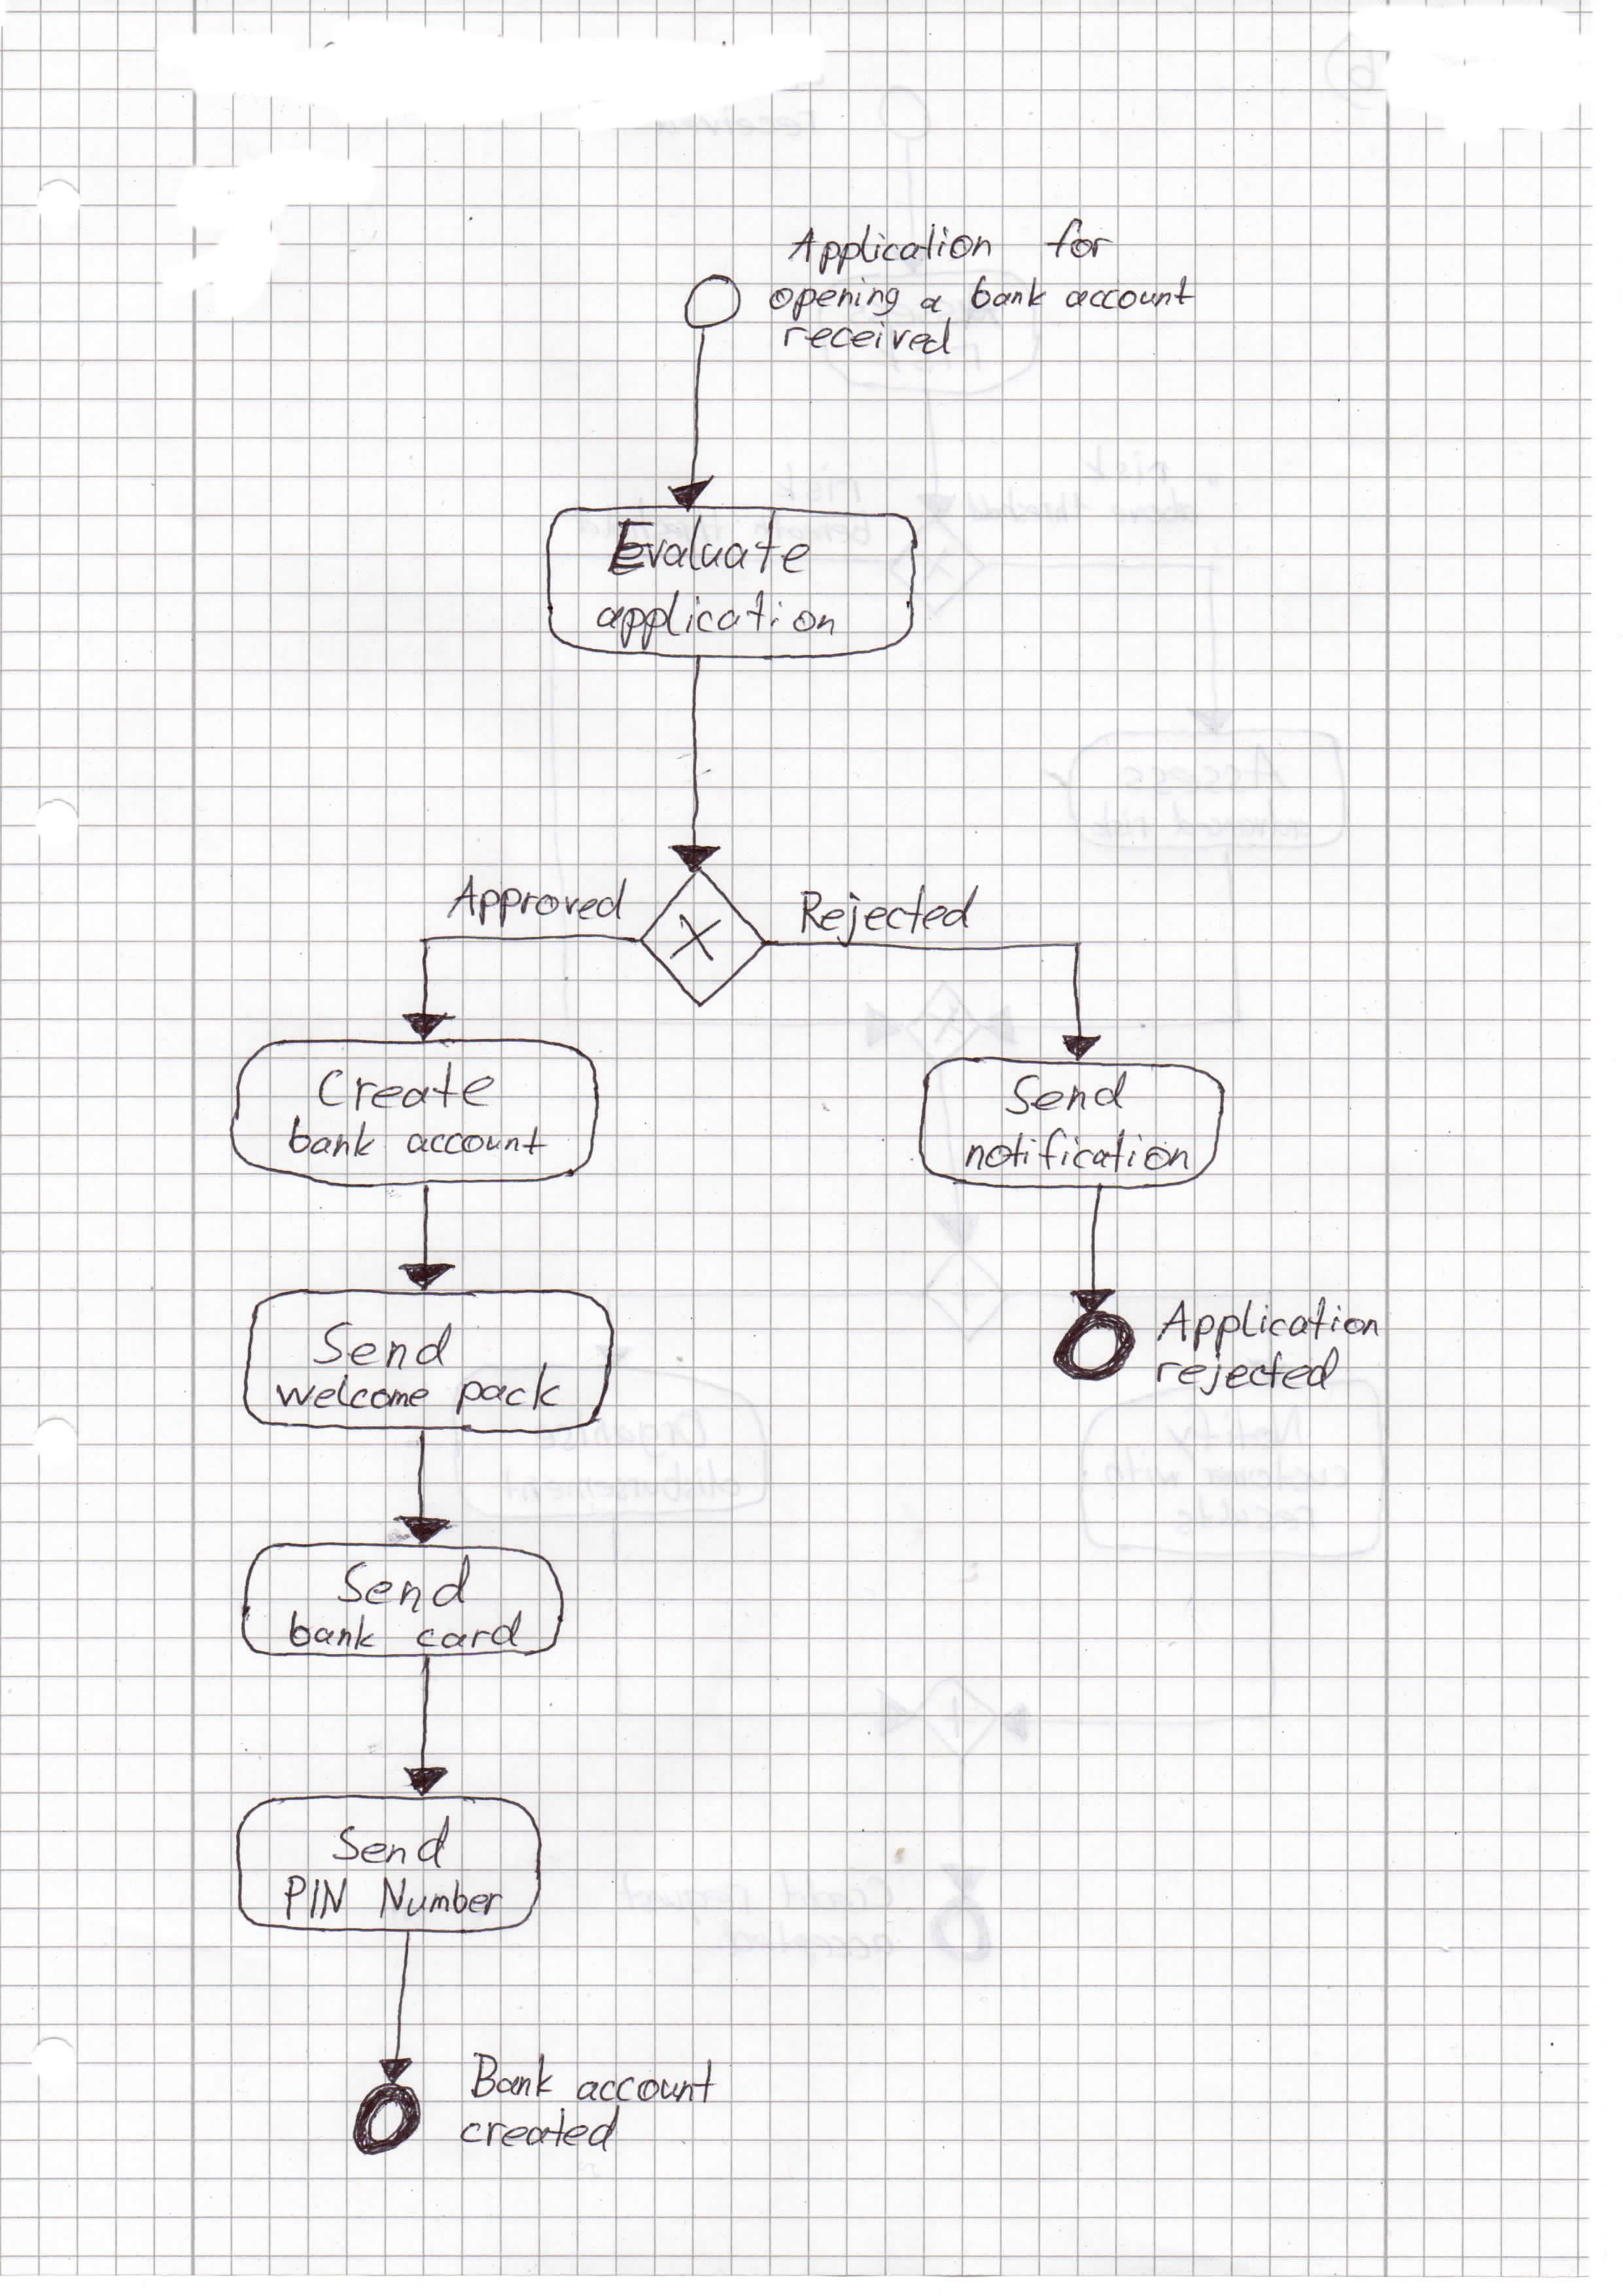Application: (1158, 1295, 1379, 1353), (789, 225, 994, 272)
Approved: (443, 873, 636, 929)
Bank: (472, 2054, 555, 2101)
Create: (316, 1061, 497, 1114)
Evaluate: (606, 511, 812, 581)
Number: (381, 1878, 502, 1918)
PIN: (283, 1873, 350, 1922)
Rejected: (794, 885, 977, 942)
Send: (335, 1556, 472, 1614), (313, 1319, 457, 1372), (1005, 1070, 1131, 1121), (334, 1818, 451, 1869)
a: (919, 290, 947, 320)
account: (574, 2059, 717, 2103), (402, 1121, 546, 1163), (1064, 278, 1194, 316)
application: (597, 592, 841, 650)
bank: (286, 1116, 379, 1161), (290, 1609, 378, 1655), (968, 274, 1049, 316)
card: (415, 1611, 525, 1651)
created: (458, 2106, 622, 2152)
for: (1045, 214, 1115, 265)
notification: (964, 1130, 1198, 1175)
opening: (766, 278, 901, 316)
pack: (455, 1363, 559, 1416)
received: (782, 320, 954, 357)
rejected: (1152, 1347, 1340, 1397)
welcome: (272, 1374, 430, 1414)
